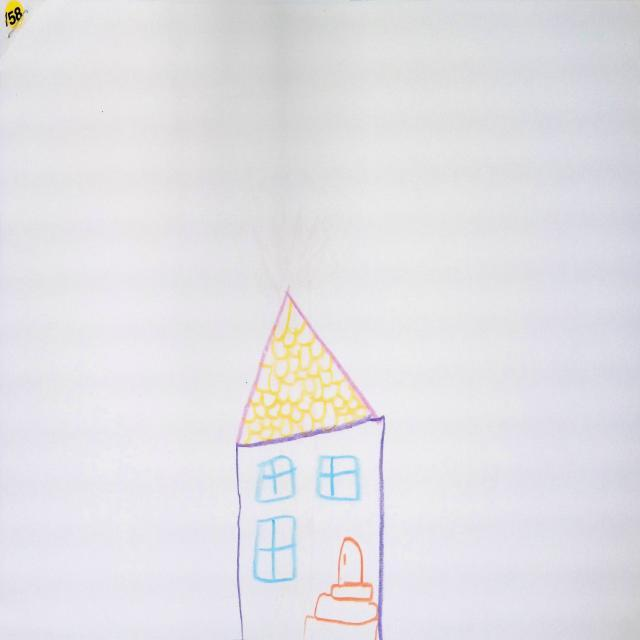door: (337, 538, 365, 585)
house: (236, 293, 385, 640)
roof: (237, 293, 376, 446)
wall: (233, 425, 387, 640)
window: (254, 517, 296, 584), (318, 456, 361, 502), (256, 456, 296, 504)
